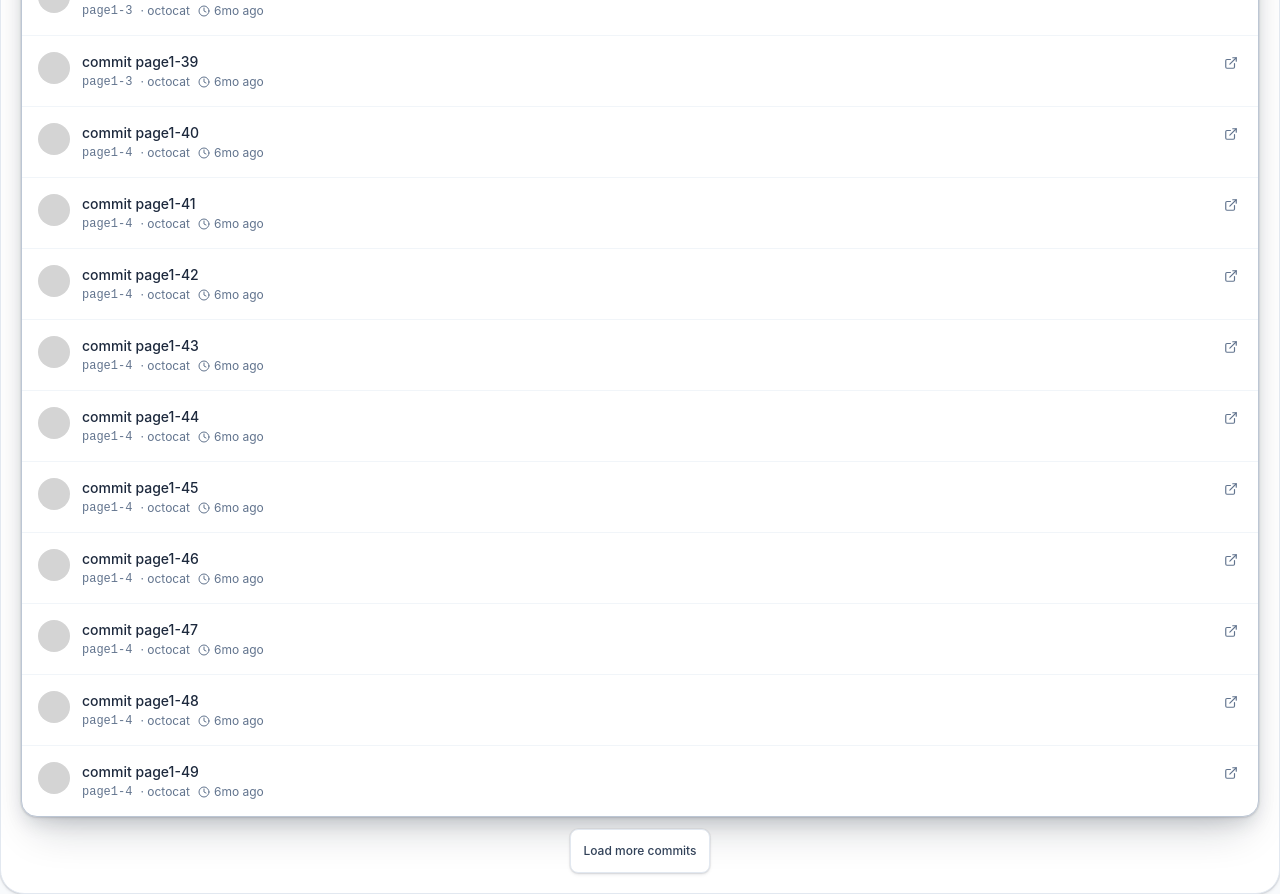
Test: CommitsTab — pagination › appends the next page on click and hides the button once the page is short
This screenshot has width=1280, height=894.
(page scrolled)
Click the button "Load more commits".
click(640, 851)  # box [570,829,710,873]
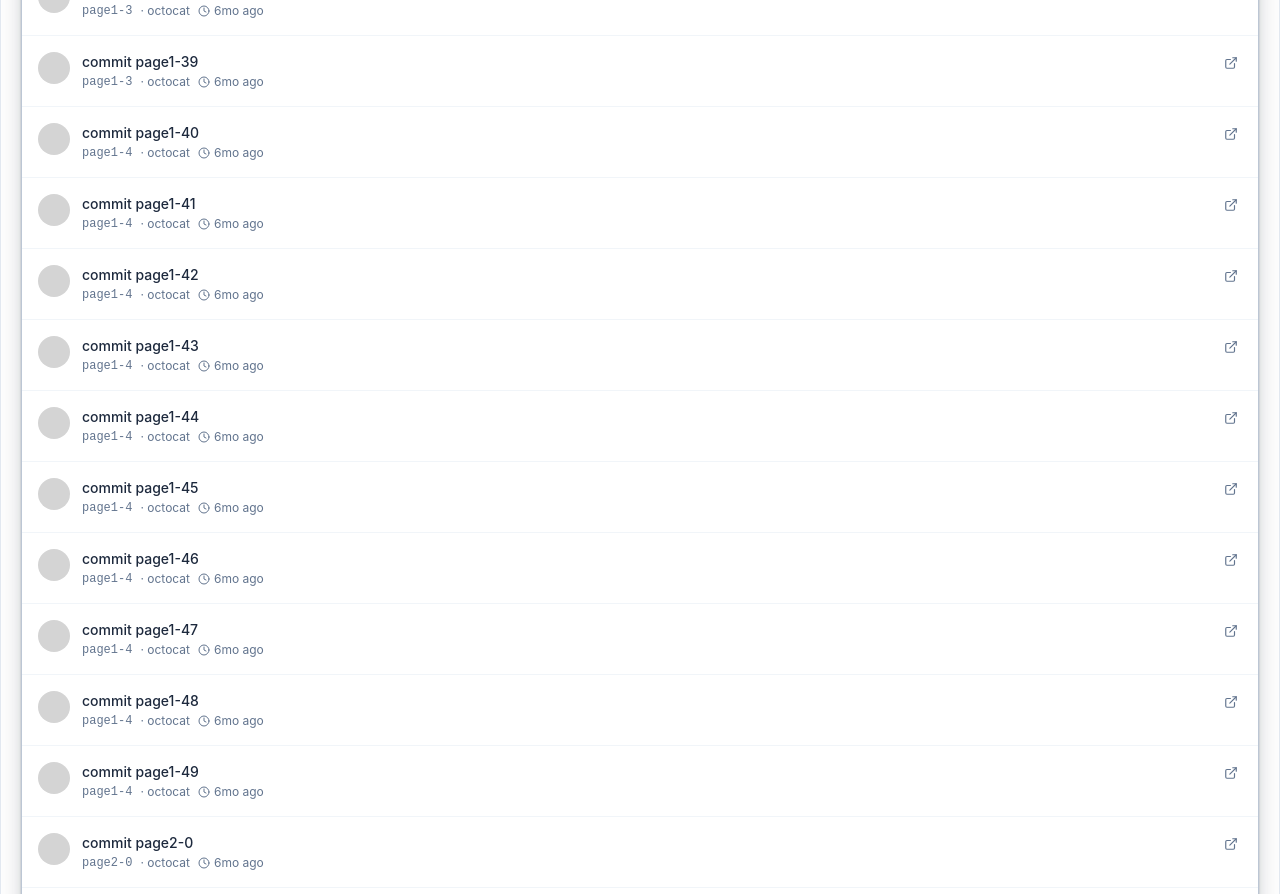
Now the button "commit page2-0" is shown, box [82,833,1208,853]
Now the button "Load more commits" is gone
